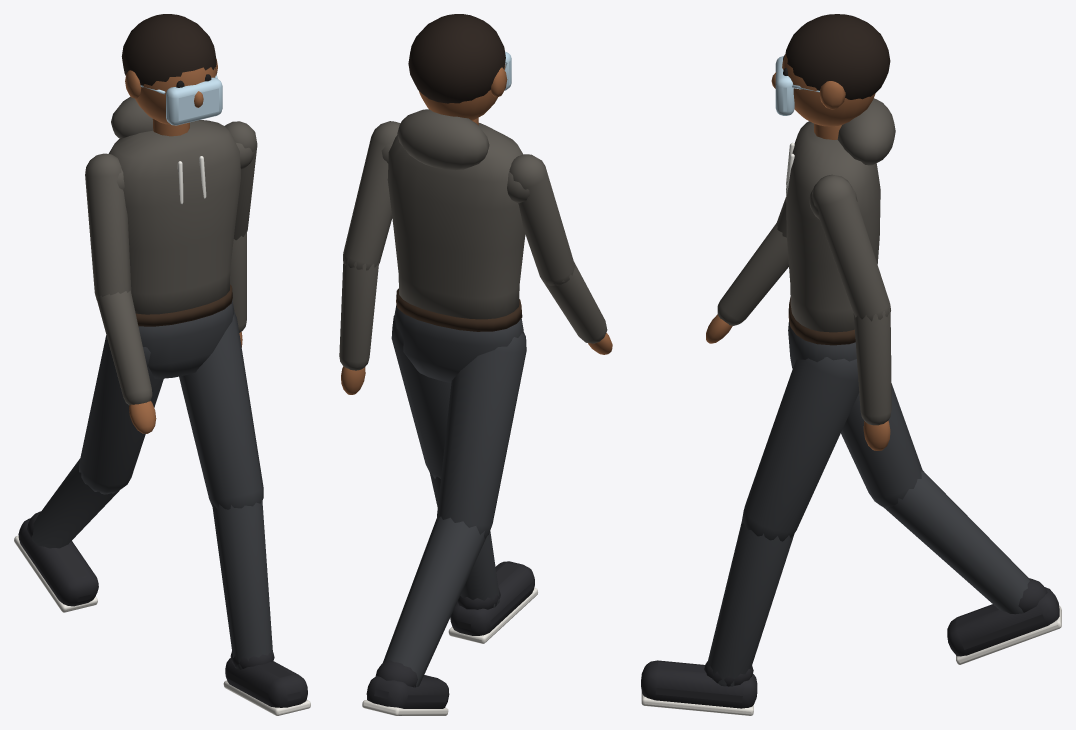
File: gloom_hood.fbx
3 renders of one model, left to right at view 1: azimuth 30°, elevation 25°; view 2: azimuth 150°, elevation 25°; view 3: azimuth 270°, elevation 25°, orthographic. The views are drawn at different scales.
Parts seen in each view (by area): view 1: gloom_hood; view 2: gloom_hood; view 3: gloom_hood.
Part boxes in pixels (box(x1,y1,x2,y2)): gloom_hood: box(14, 14, 310, 715); gloom_hood: box(339, 14, 612, 715); gloom_hood: box(641, 14, 1061, 715).
Size of the model in its own units: 0.5299 by 1.73 by 0.9773.
